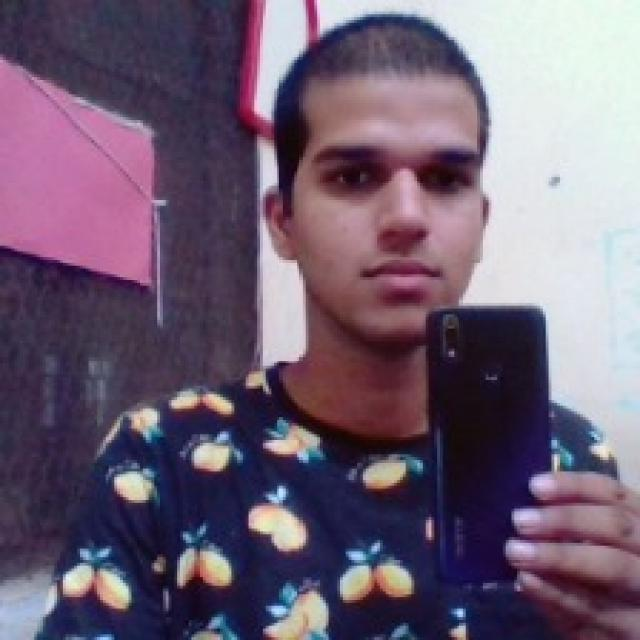phone: (432, 299, 550, 589)
